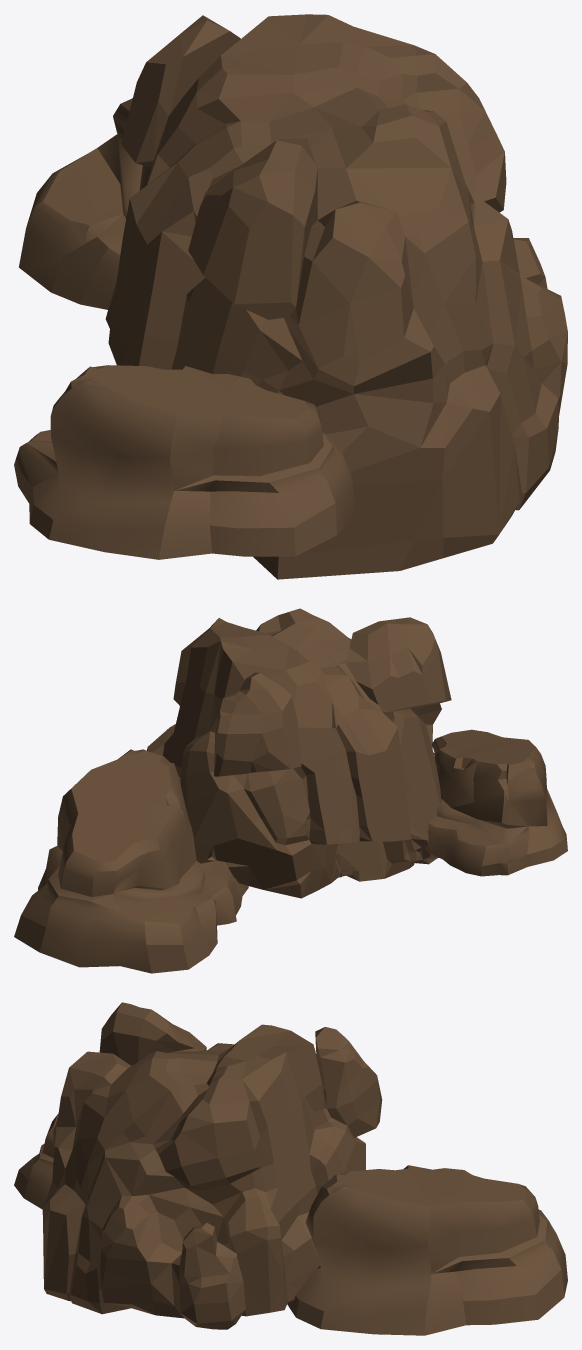
File: shituo10.FBX
The picture shows the model from 3 angles, top to bottom: view 1: azimuth 30°, elevation 25°; view 2: azimuth 150°, elevation 25°; view 3: azimuth 270°, elevation 25°; orthographic projection. The views are drawn at different scales.
Visible parts, largest first — view 1: c62, c79, c61; view 2: c62, c61, c79; view 3: c62, c61, c79.
Part boxes in pixels (box(x1,y1,x2,y2)): c62: box(105, 14, 567, 579); c79: box(14, 365, 355, 559); c61: box(18, 98, 151, 309); c62: box(147, 608, 451, 898); c61: box(14, 749, 248, 973); c79: box(425, 729, 567, 876); c62: box(42, 1002, 382, 1329); c61: box(287, 1165, 567, 1335); c79: box(14, 1113, 58, 1209).
Bounding box in the file's own units: 2.95 × 1.88 × 3.71.
